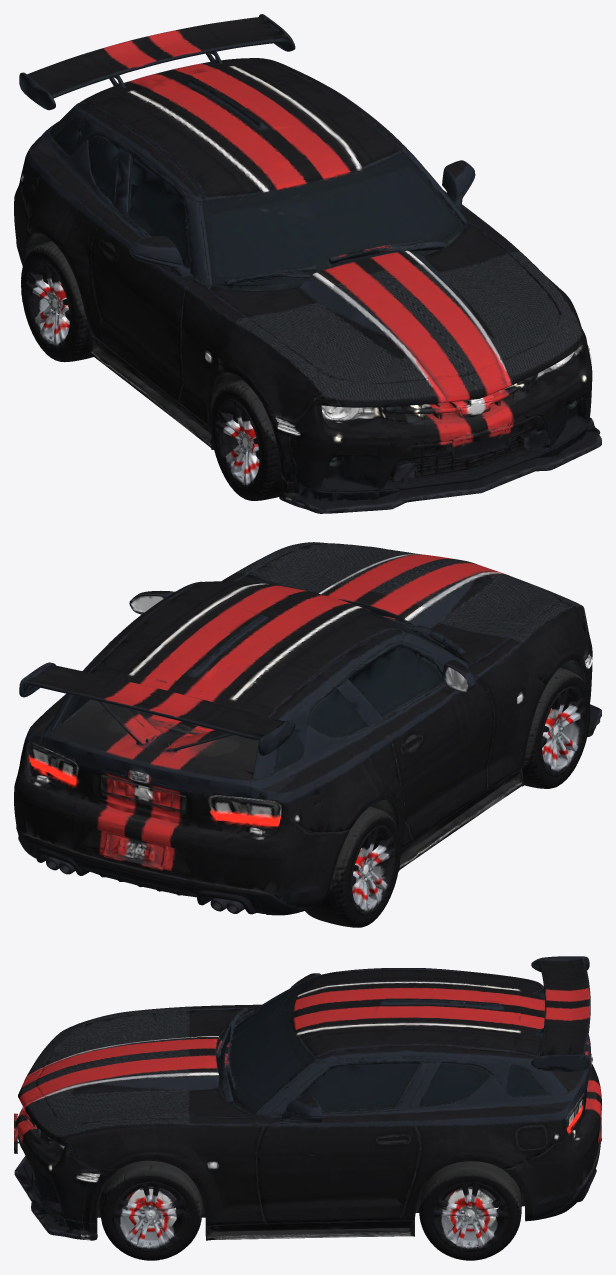
The model's file is qmaro.glb.
3 views of the same model, one above another, from view 1: azimuth 30°, elevation 25°; view 2: azimuth 150°, elevation 25°; view 3: azimuth 270°, elevation 25° (orthographic). The views are drawn at different scales.
Parts seen in each view (by area): view 1: tripo_node_dc043a48-ab73-4727-8dbc-190e1b3983d9; view 2: tripo_node_dc043a48-ab73-4727-8dbc-190e1b3983d9; view 3: tripo_node_dc043a48-ab73-4727-8dbc-190e1b3983d9.
Boxes of the visible parts, left/top/right/bottom form: tripo_node_dc043a48-ab73-4727-8dbc-190e1b3983d9: left=14, top=14, right=601, bottom=513; tripo_node_dc043a48-ab73-4727-8dbc-190e1b3983d9: left=14, top=542, right=601, bottom=927; tripo_node_dc043a48-ab73-4727-8dbc-190e1b3983d9: left=14, top=956, right=601, bottom=1260.
Size of the model in its own units: 0.553 by 0.3643 by 0.9806.
Materials: 5 (5 with a texture image).
